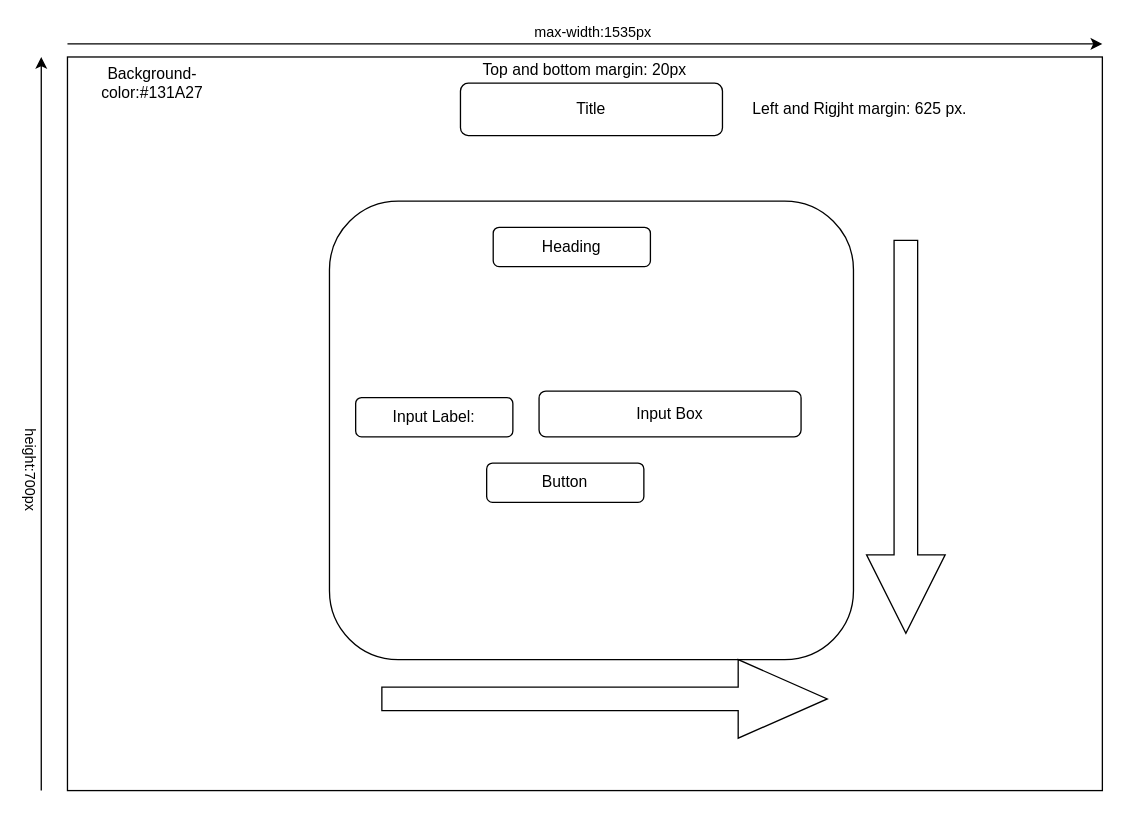
Image size: 1136x824. Some labels were removed from this diagram. The centre of each missing label's shape, as x and y in pixels:
Height: 500px: [905,436]
Width: 625px: [604,698]
